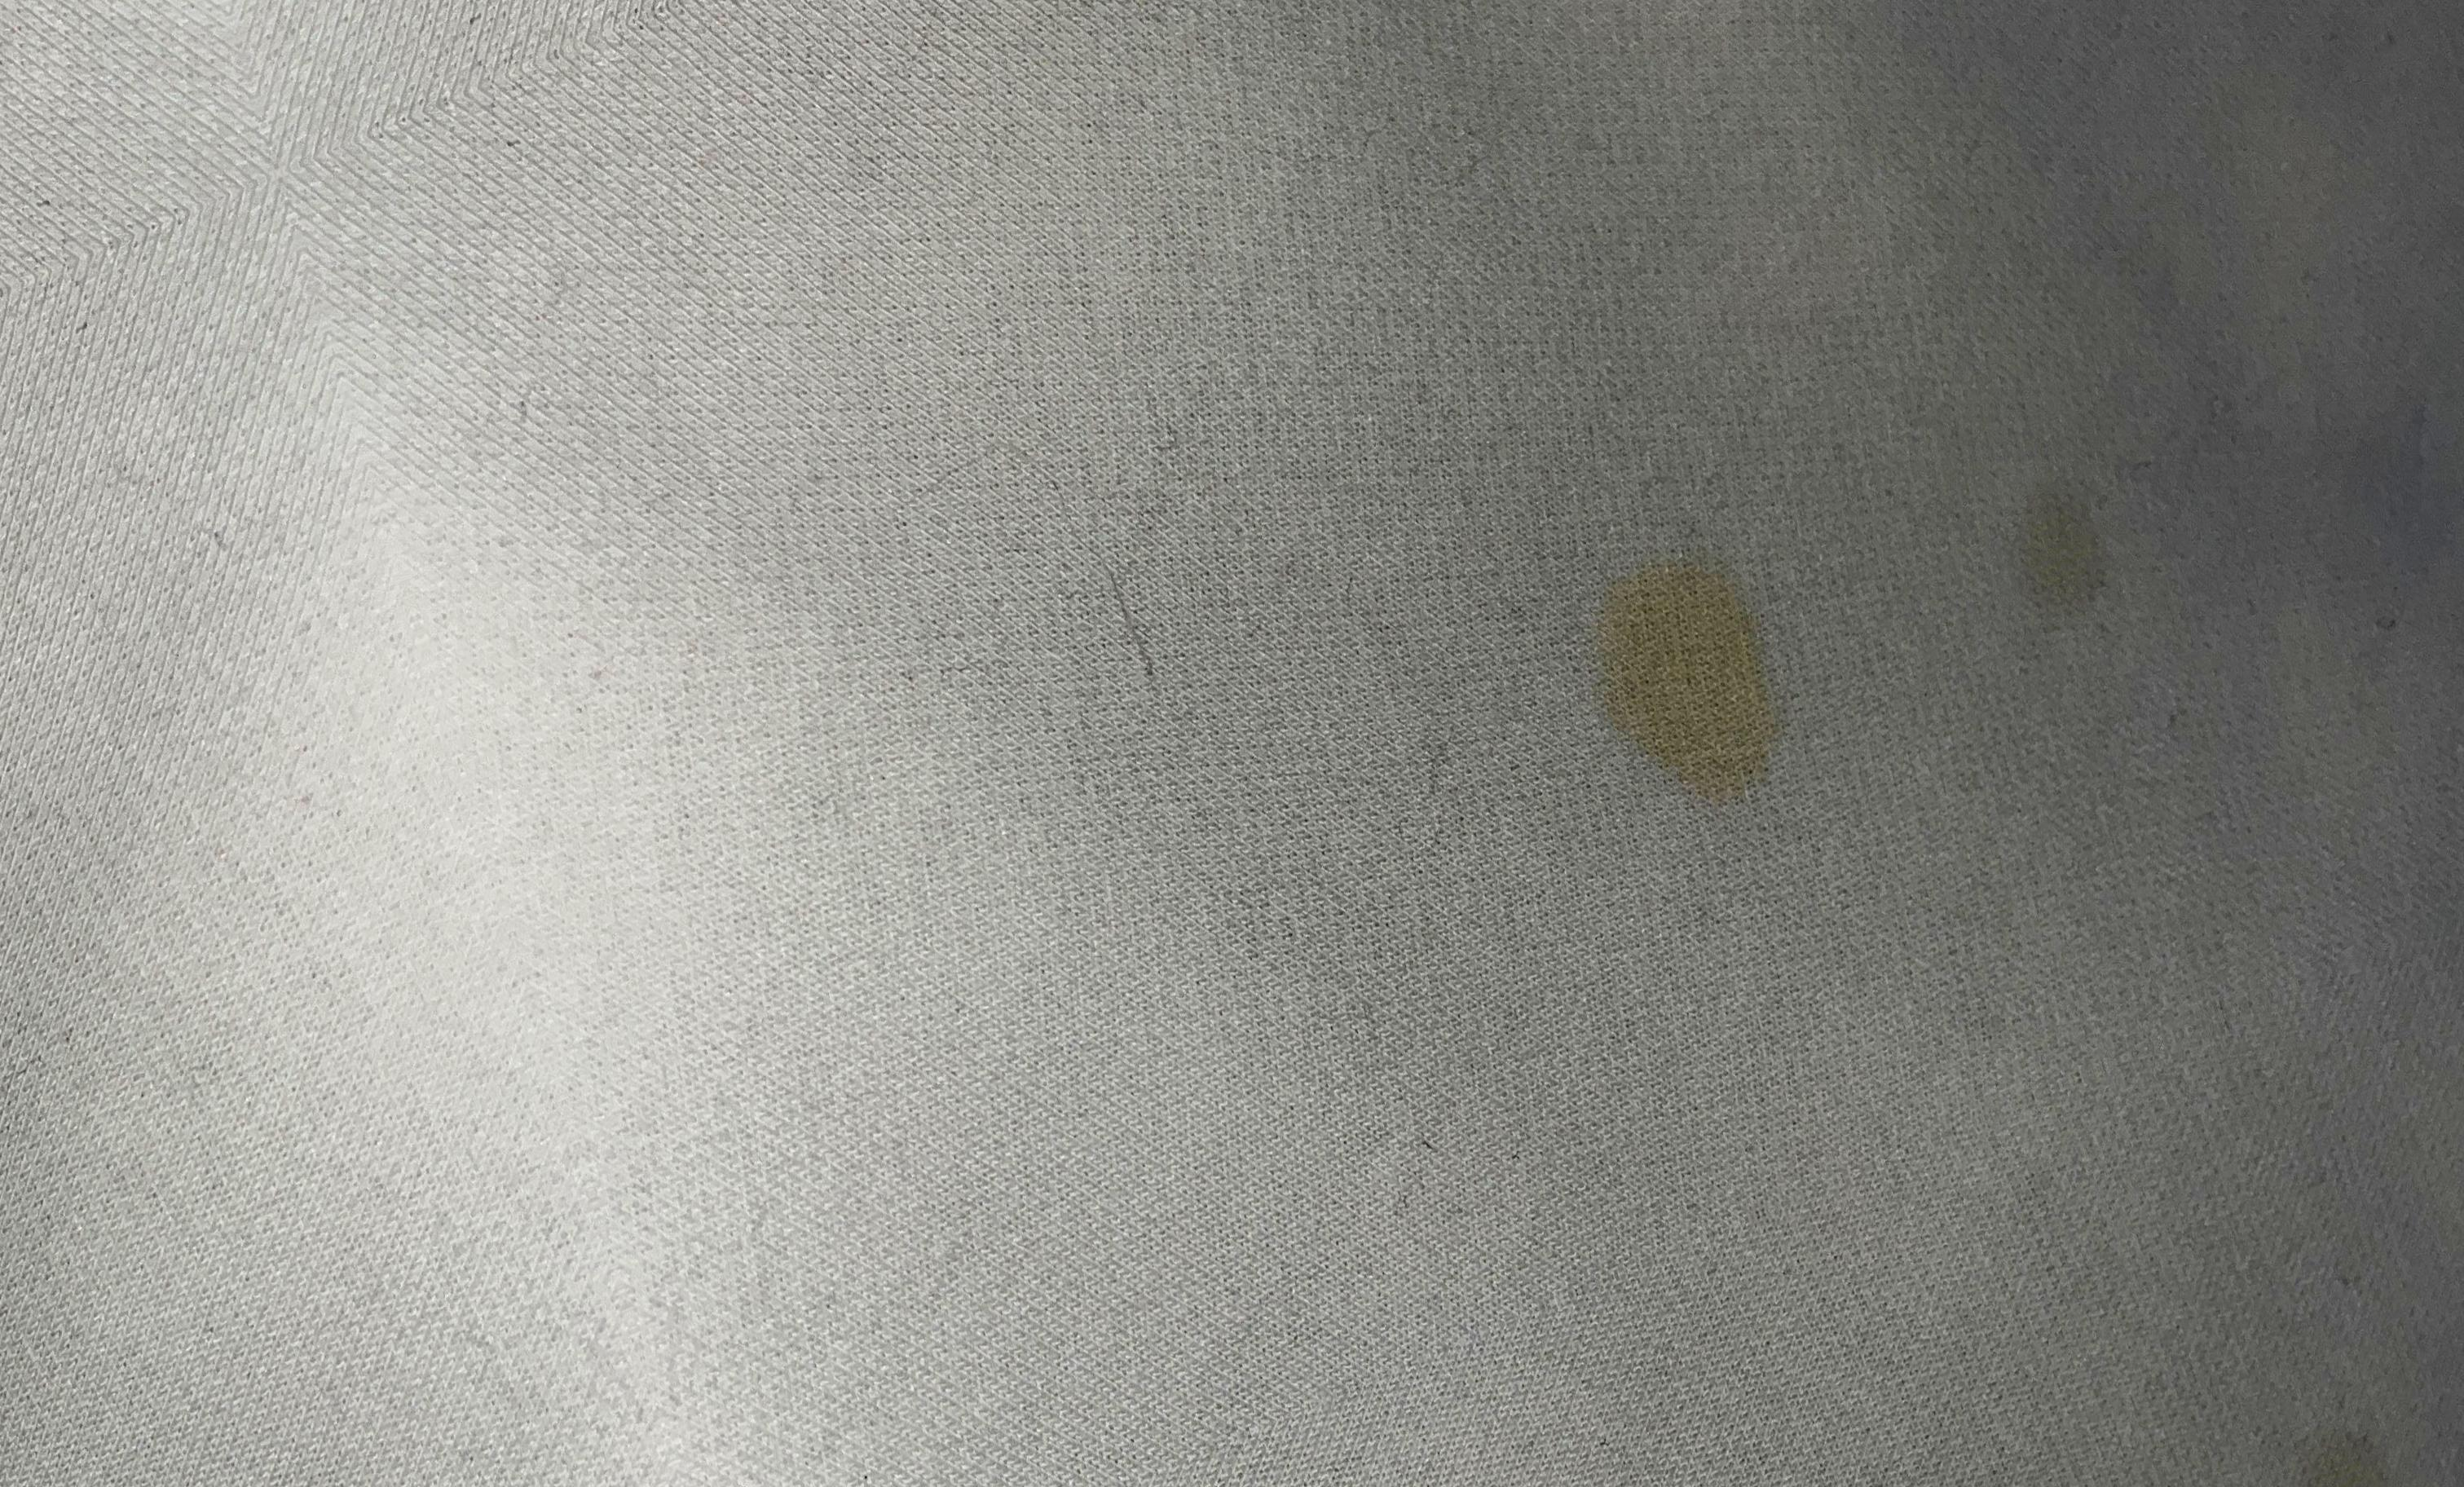stain: (1573, 544, 1818, 815), (1994, 479, 2140, 642)
